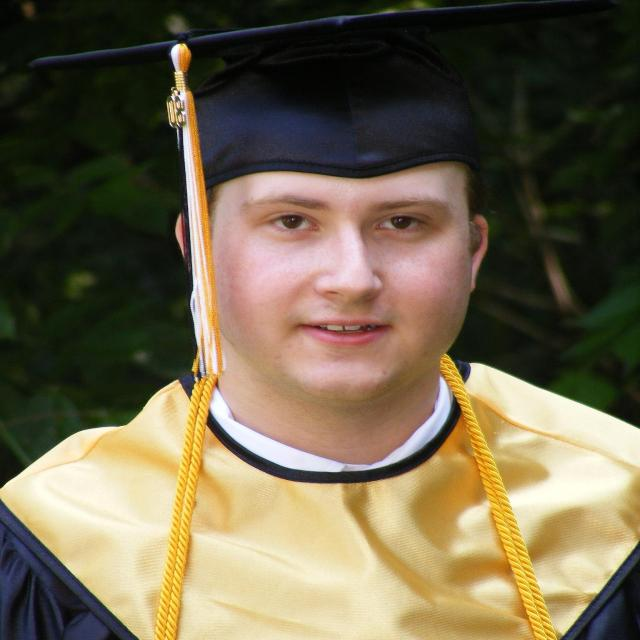no-glass: (262, 209, 435, 234)
